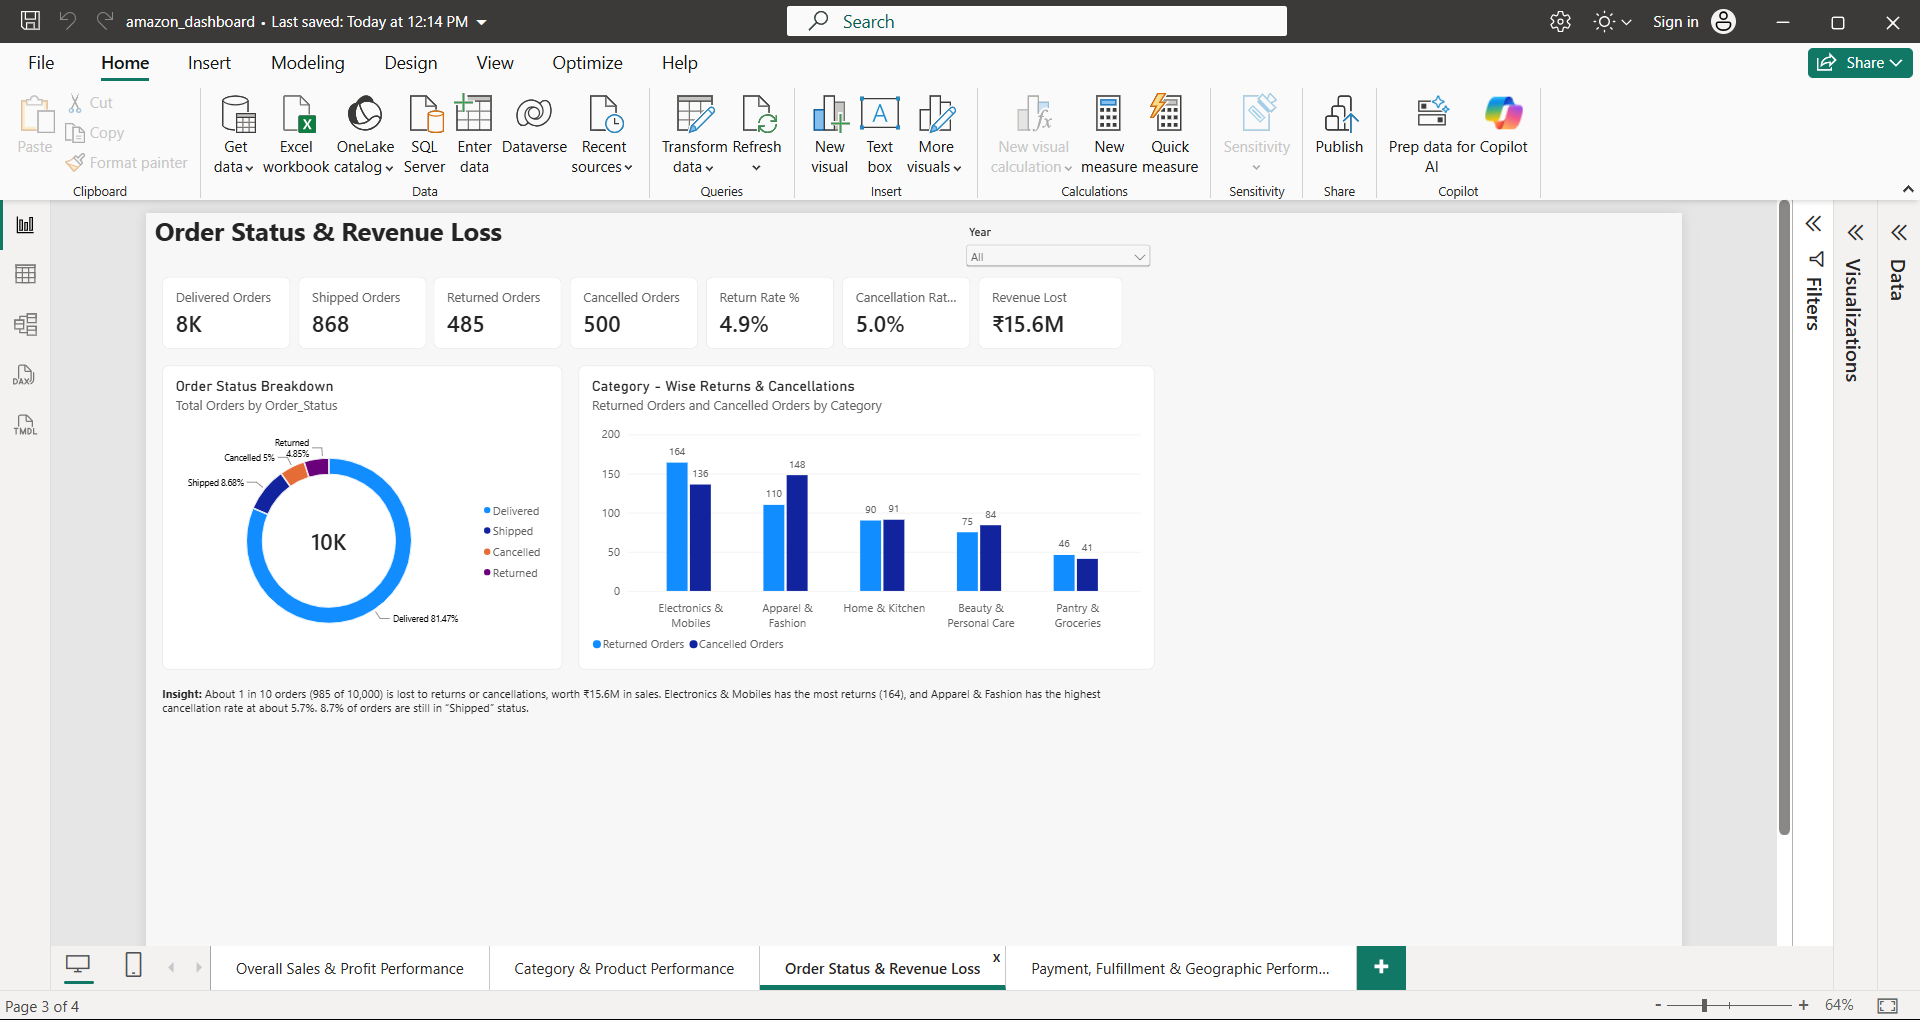

The page's visual inventory and layout, read from the dashboard file:
{"tool":"powerbi","page":{"name":"Order Status & Revenue Loss","canvas":[1920,1080],"ordinal":2},"visuals":[{"type":"textbox","box":[10.3,0,487.8,72],"z":0},{"type":"cardVisual","fields":{"Data":["Sales.Delivered Orders"]},"box":[20,80,160,90],"z":1},{"type":"cardVisual","fields":{"Data":["Sales.Shipped Orders"]},"box":[190,80,160,90],"z":2},{"type":"cardVisual","fields":{"Data":["Sales.Cancelled Orders"]},"box":[530,80,160,90],"z":3},{"type":"cardVisual","fields":{"Data":["Sales.Return Rate %"]},"box":[700,80,160,90],"z":4},{"type":"cardVisual","fields":{"Data":["Sales.Revenue Lost"]},"box":[1040,80,180,90],"z":5},{"type":"cardVisual","fields":{"Data":["Sales.Cancellation Rate %"]},"box":[870,80,160,90],"z":6},{"type":"cardVisual","fields":{"Data":["Sales.Returned Orders"]},"box":[360,80,160,90],"z":7},{"type":"donutChart","title":"Order Status Breakdown","fields":{"Category":["Sales.Order_Status"],"Y":["Sales.Total Orders"]},"box":[20,190,500,380],"z":8},{"type":"clusteredColumnChart","title":"Category - Wise Returns & Cancellations","fields":{"Category":["Sales.Category"],"Y":["Sales.Returned Orders","Sales.Cancelled Orders"]},"box":[540,190,720,380],"z":9},{"type":"slicer","fields":{"Values":["Sales.Year"]},"box":[1020,15,240,55],"z":10},{"type":"textbox","box":[20,590,1240,100],"z":11}]}

Visuals, with their boxes on the page's 1920x1080 design canvas (x1, y1, x2, y2). These are canvas units, not pixel positions in the 1920x1020 screenshot, which may show the page scaled, cropped or inside an application window:
textbox: BBox(10, 0, 498, 72)
cardVisual - Sales.Delivered Orders: BBox(20, 80, 180, 170)
cardVisual - Sales.Shipped Orders: BBox(190, 80, 350, 170)
cardVisual - Sales.Cancelled Orders: BBox(530, 80, 690, 170)
cardVisual - Sales.Return Rate %: BBox(700, 80, 860, 170)
cardVisual - Sales.Revenue Lost: BBox(1040, 80, 1220, 170)
cardVisual - Sales.Cancellation Rate %: BBox(870, 80, 1030, 170)
cardVisual - Sales.Returned Orders: BBox(360, 80, 520, 170)
"Order Status Breakdown" donutChart: BBox(20, 190, 520, 570)
"Category - Wise Returns & Cancellations" clusteredColumnChart: BBox(540, 190, 1260, 570)
slicer - Sales.Year: BBox(1020, 15, 1260, 70)
textbox: BBox(20, 590, 1260, 690)
